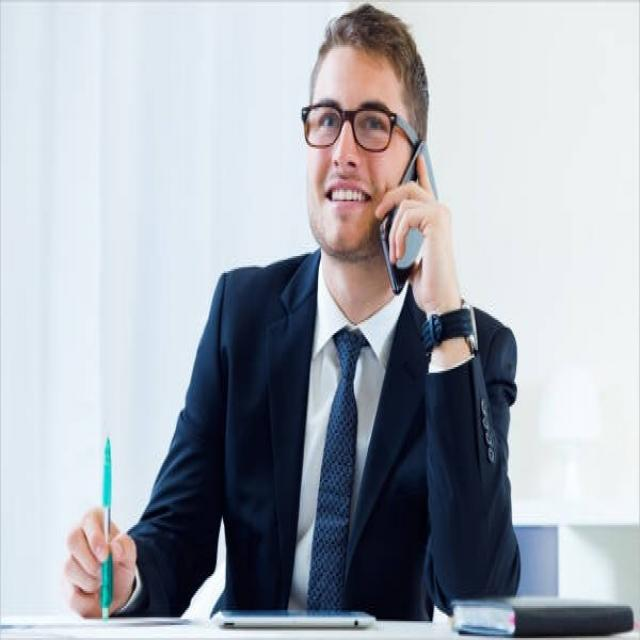phone: (355, 83, 458, 314)
